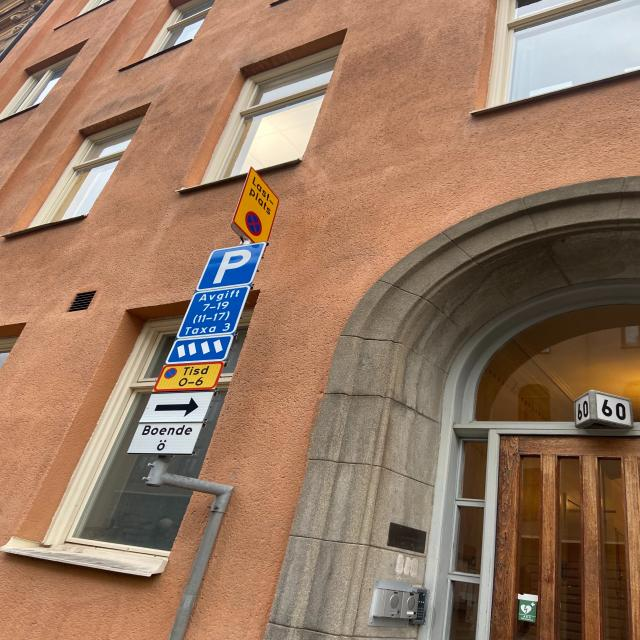lastplats: (224, 164, 278, 246)
psign: (195, 242, 268, 285)
